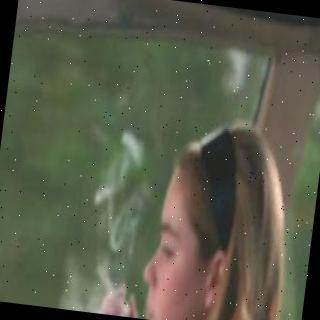smoke: (84, 130, 152, 256), (52, 266, 105, 314)
